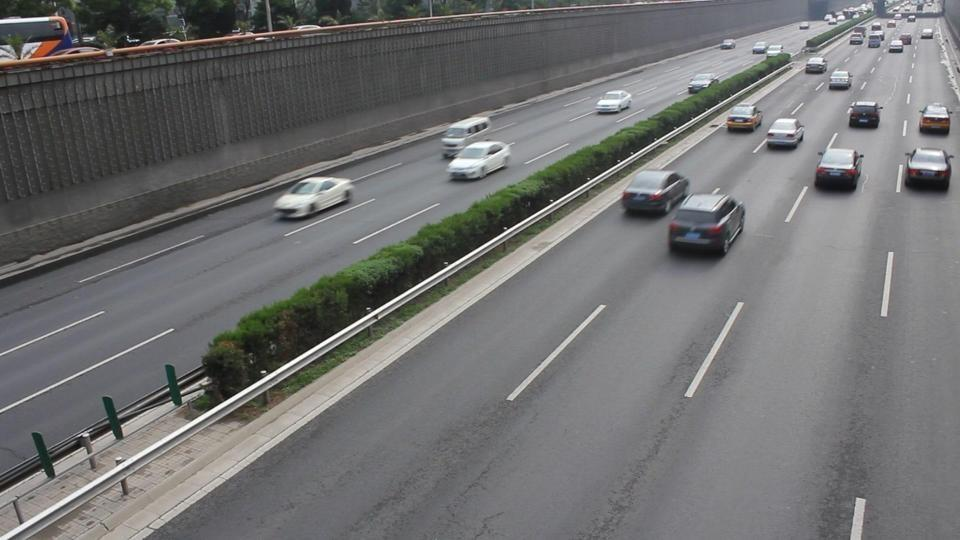car: (665, 189, 746, 257), (272, 176, 356, 220), (621, 169, 692, 217), (447, 140, 513, 182), (814, 146, 865, 192), (440, 115, 491, 158), (902, 148, 953, 191), (766, 117, 806, 150), (725, 103, 763, 133), (917, 102, 951, 134), (847, 100, 882, 129), (596, 90, 632, 114), (830, 69, 851, 90), (805, 55, 828, 74), (919, 26, 935, 40)
